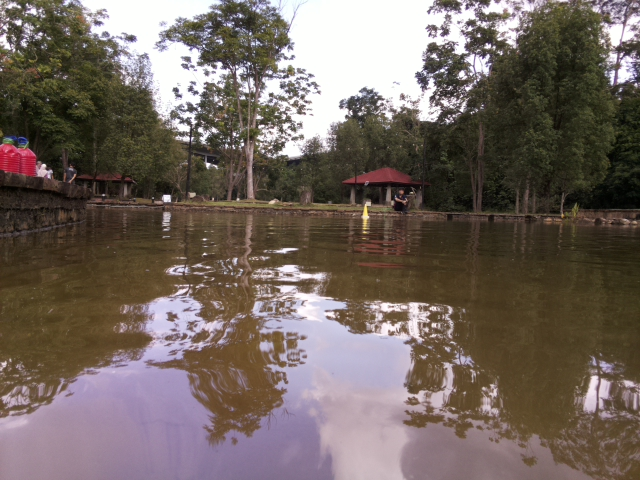checkpoint: (359, 203, 371, 220)
